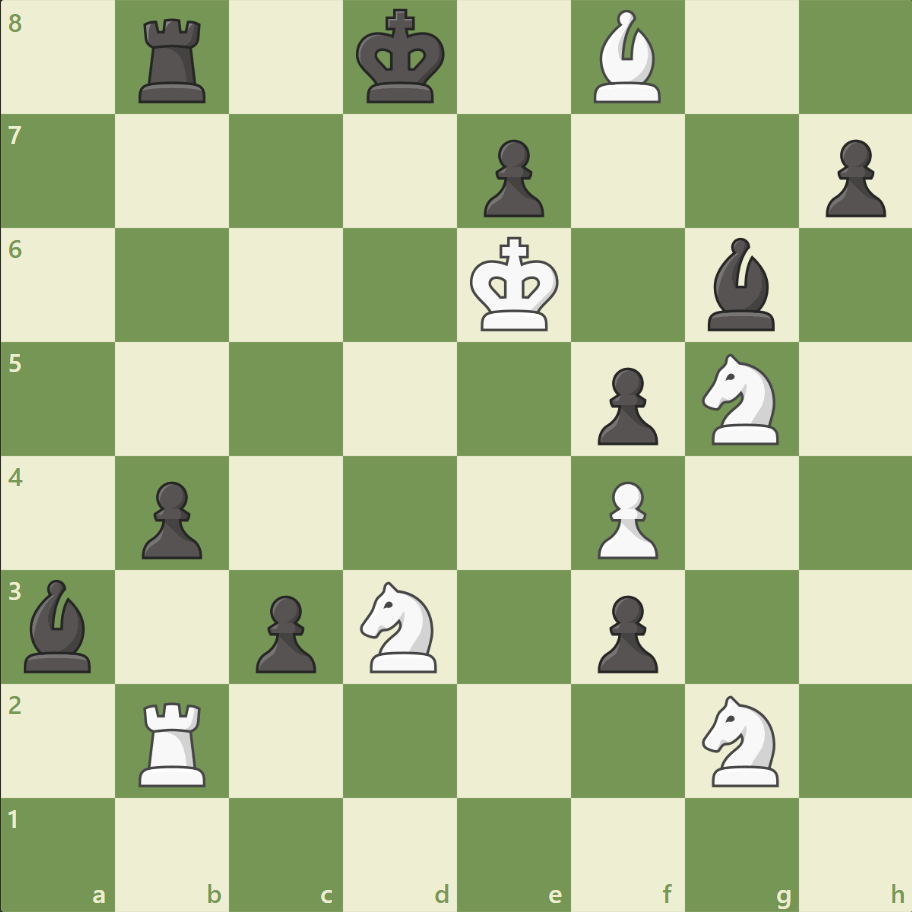B: (585, 6, 669, 109)
K: (465, 231, 565, 339)
N: (351, 575, 449, 677), (692, 688, 789, 791), (692, 348, 789, 450)
P: (588, 473, 662, 564)
R: (133, 693, 215, 790)
b: (698, 233, 782, 336), (17, 574, 101, 676)
k: (351, 4, 451, 112)
p: (474, 132, 549, 223), (133, 473, 208, 564), (247, 586, 322, 677), (815, 132, 889, 223), (588, 359, 662, 450), (588, 586, 662, 677)
r: (133, 12, 215, 109)
